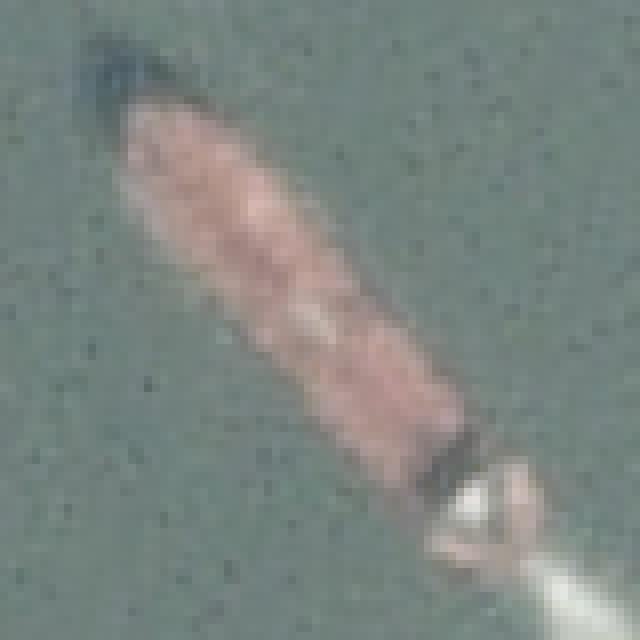ship: (85, 60, 564, 588)
